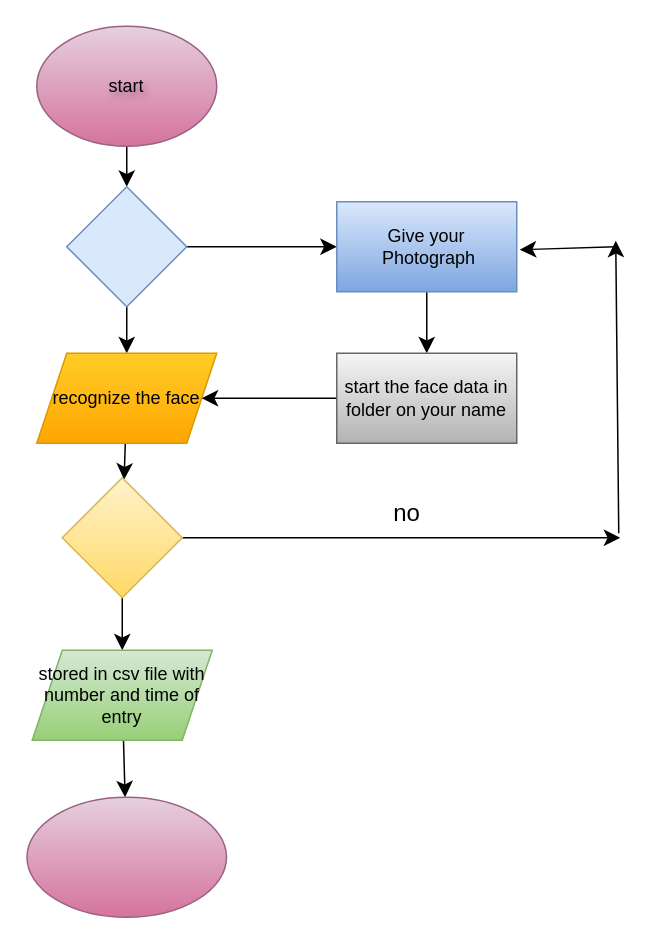
Image size: 650x944. Some labels were removed from this diagram. Here are the shapes that lost their labels. From the top down, the box of each, then its label:
(65, 185, 187, 307): New User ?
(61, 476, 182, 598): Face Recognized
(26, 796, 226, 917): END
